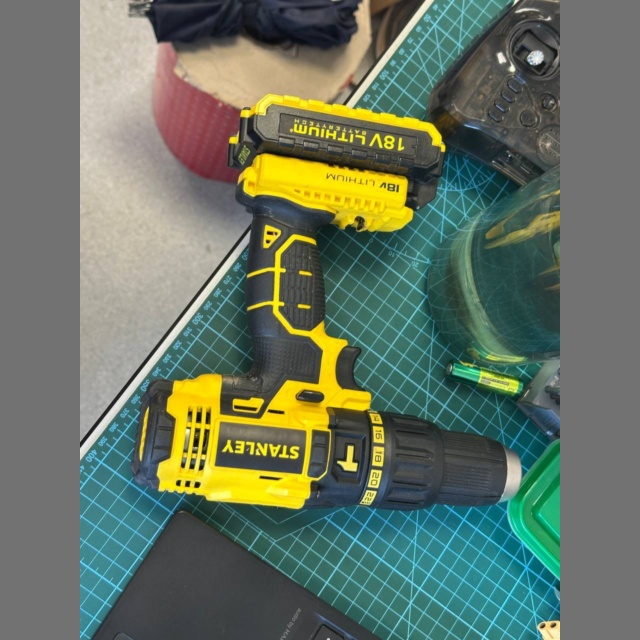drill: (132, 94, 522, 509)
